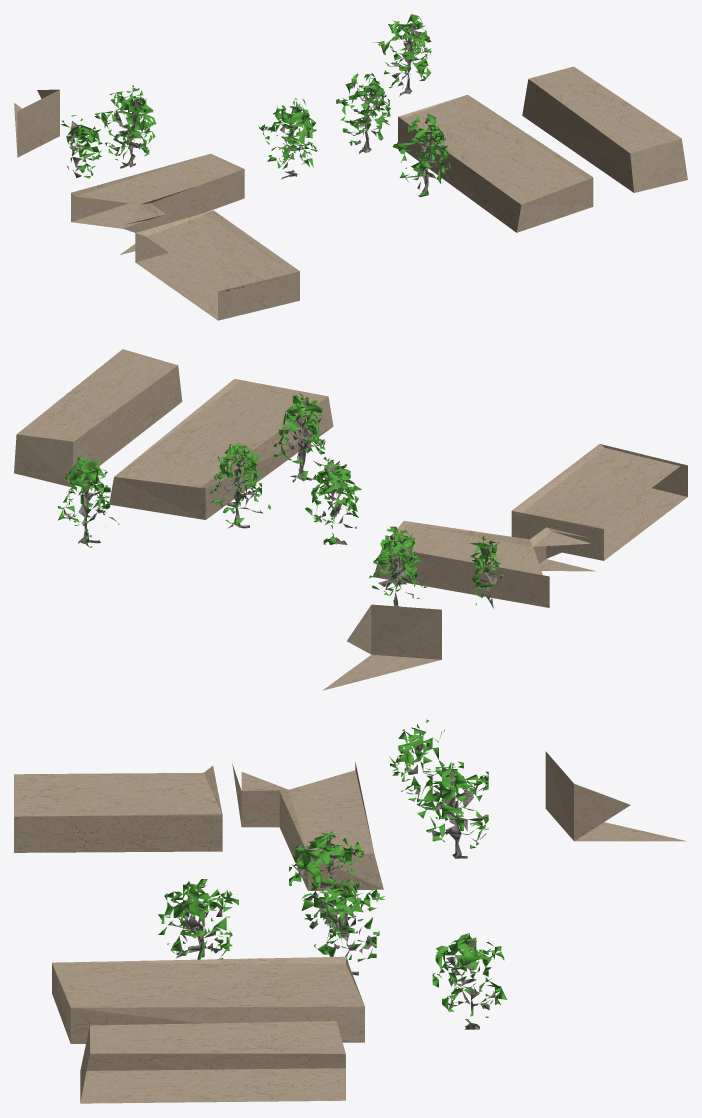
Rendered from tile_1_2.gltf.
The picture shows the model from 3 angles, top to bottom: view 1: azimuth 30°, elevation 25°; view 2: azimuth 150°, elevation 25°; view 3: azimuth 270°, elevation 25°; orthographic projection. The views are drawn at different scales.
Visible parts, largest first — view 1: Plane.011@tile_1_2, Bodhi Tree_Bodhi_front_2_Mat_0.044@tile_1_2; view 2: Plane.011@tile_1_2, Bodhi Tree_Bodhi_front_2_Mat_0.044@tile_1_2; view 3: Plane.011@tile_1_2, Bodhi Tree_Bodhi_front_2_Mat_0.044@tile_1_2.
Part boxes in pixels (x1=…): Plane.011@tile_1_2: x1=14, y1=66, x2=687, y2=320; Bodhi Tree_Bodhi_front_2_Mat_0.044@tile_1_2: x1=61, y1=14, x2=451, y2=197; Plane.011@tile_1_2: x1=14, y1=349, x2=687, y2=690; Bodhi Tree_Bodhi_front_2_Mat_0.044@tile_1_2: x1=58, y1=393, x2=503, y2=608; Plane.011@tile_1_2: x1=14, y1=751, x2=686, y2=1103; Bodhi Tree_Bodhi_front_2_Mat_0.044@tile_1_2: x1=158, y1=719, x2=507, y2=1029.
Size of the model in its own units: 68.72 by 10.32 by 63.97.
Materials: 3 (2 with a texture image).
